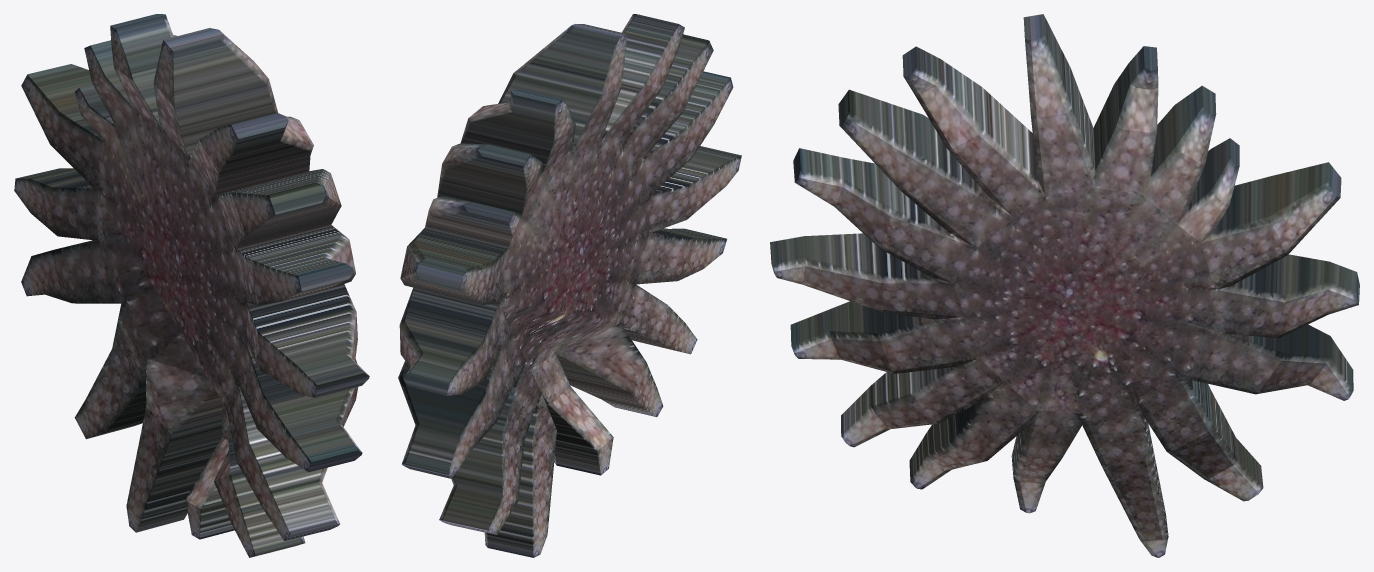
The model's file is AR_Species_SunflowerSeaStar.fbx.
3 renders of one model, left to right at view 1: azimuth 30°, elevation 25°; view 2: azimuth 150°, elevation 25°; view 3: azimuth 270°, elevation 25°, orthographic. The views are drawn at different scales.
Parts seen in each view (by area): view 1: Sunflower Sea Star.001; view 2: Sunflower Sea Star.001; view 3: Sunflower Sea Star.001.
Part boxes in pixels (x1,y1,x2,y2): Sunflower Sea Star.001: (14, 14, 369, 557); Sunflower Sea Star.001: (398, 14, 741, 557); Sunflower Sea Star.001: (770, 14, 1359, 557).
Size of the model in its own units: 73.34 by 276 by 292.
1 material, 1 textured.
